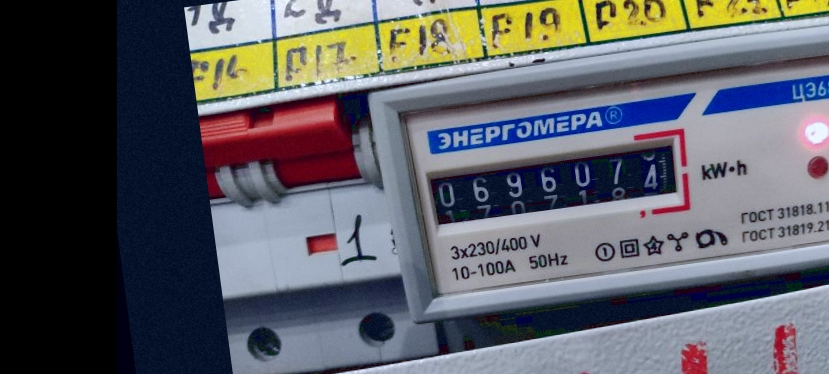0: (436, 177, 459, 208), (571, 158, 593, 187)
4: (640, 161, 661, 191)
6: (538, 162, 560, 193), (470, 174, 491, 203)
7: (606, 153, 628, 186)
9: (504, 169, 525, 199)
screen: (412, 123, 700, 246)
